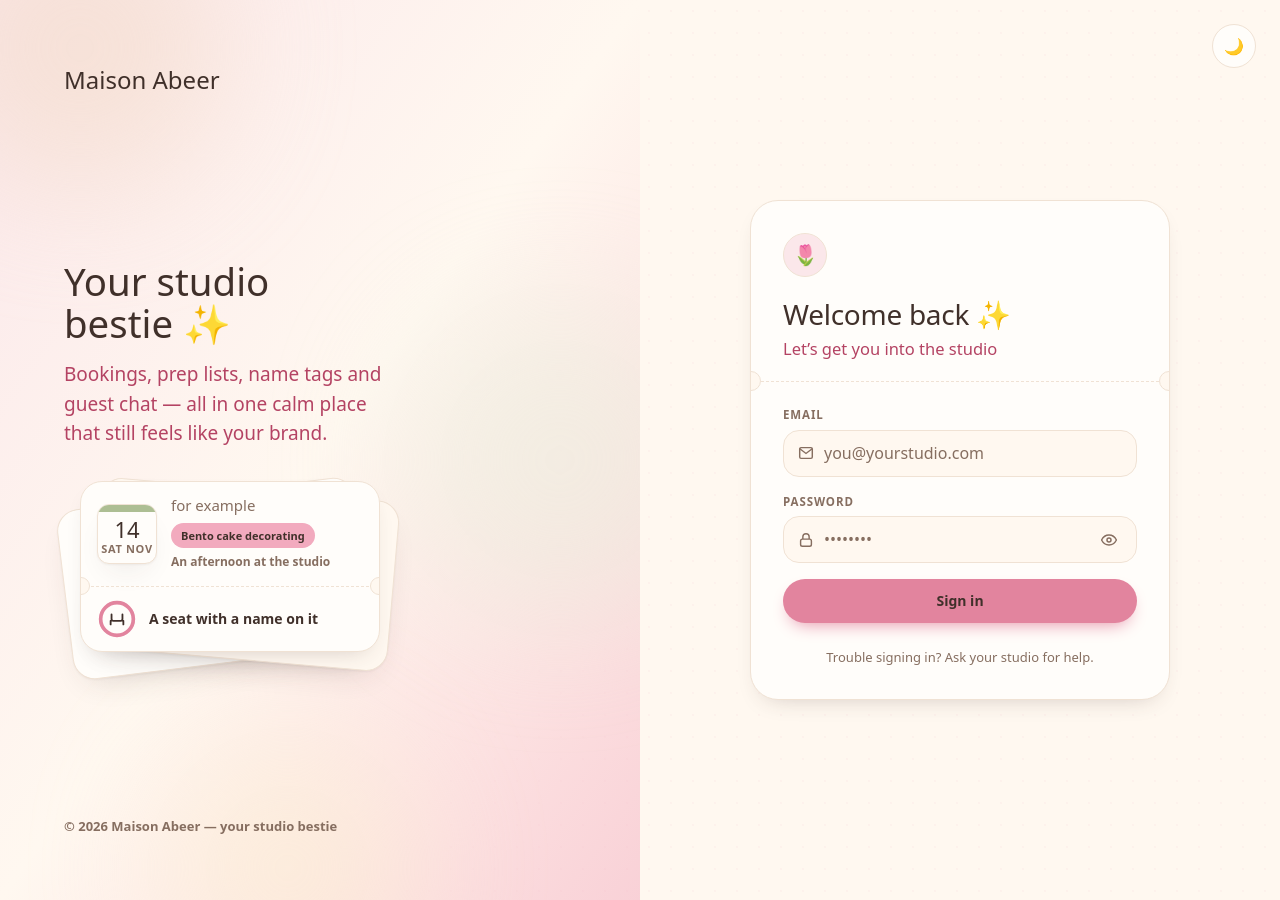
Test: LoginPage › shows one message when the client itself throws
The width and height of the screenshot is (1280, 900).
In the field labelled "Email": (960, 453) [783,430,1137,477], type "host@studio.test"
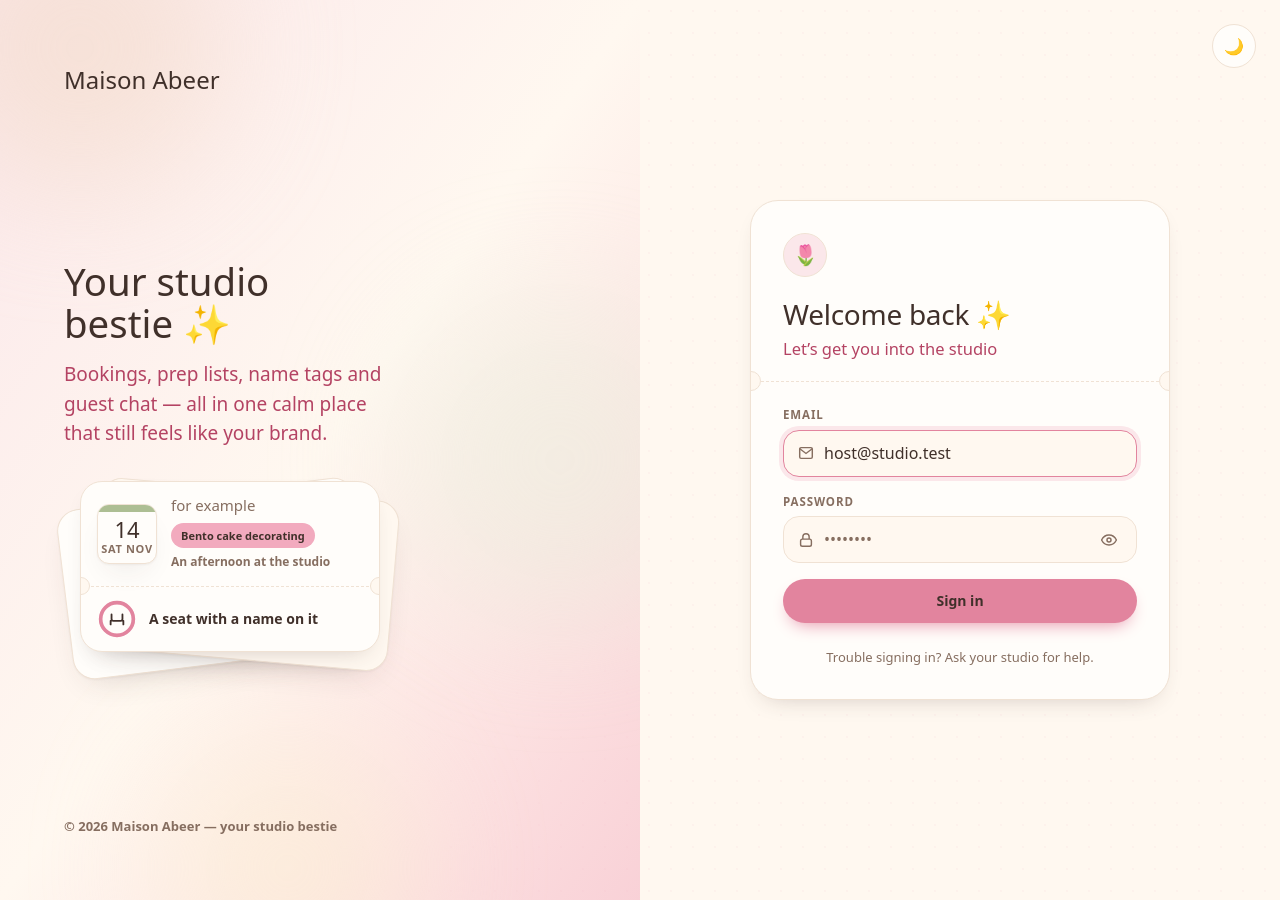
In the password field labelled "Password": (960, 540) [783,516,1137,563], type "secret-password"
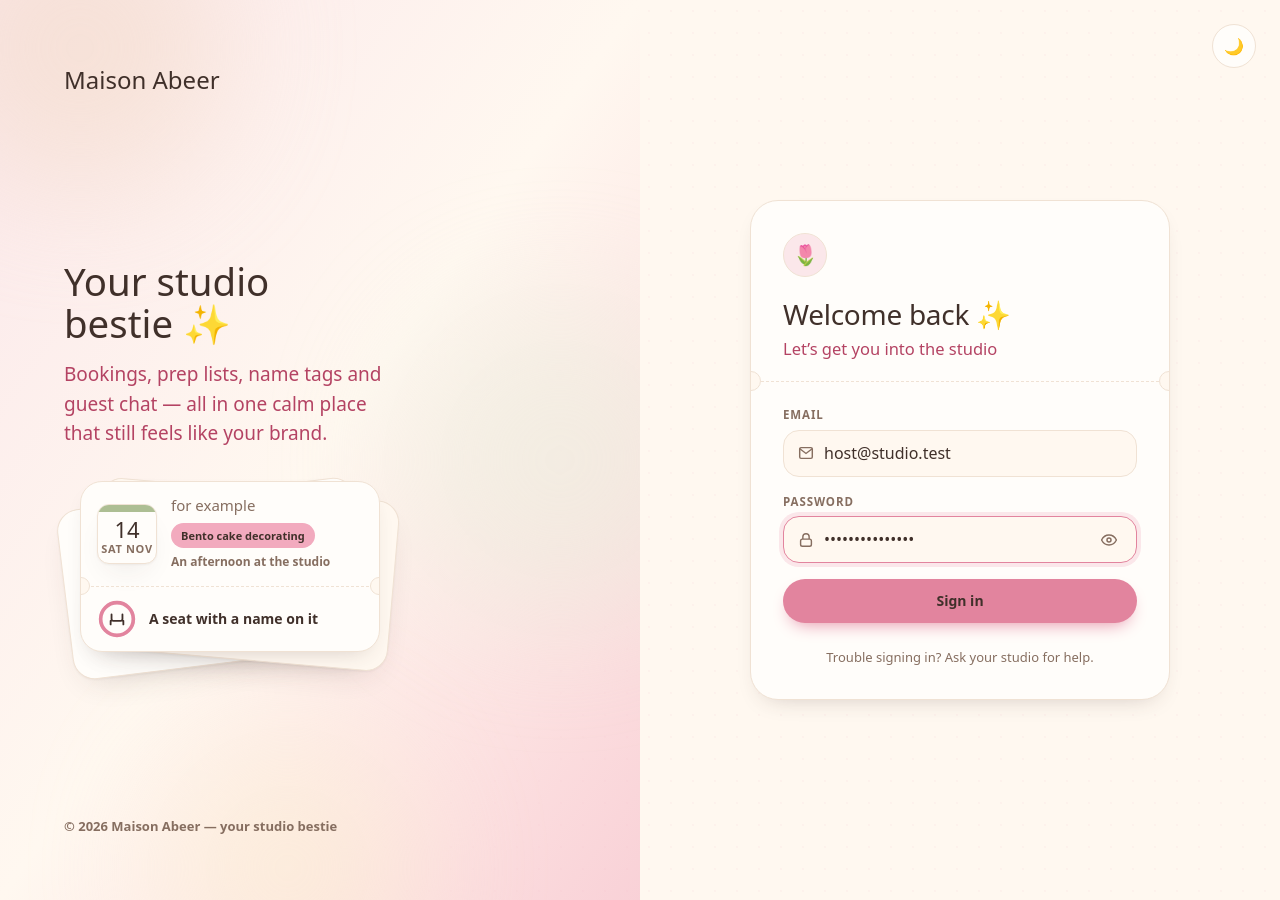
Click the button "Sign in": (960, 601) [783,579,1137,623]
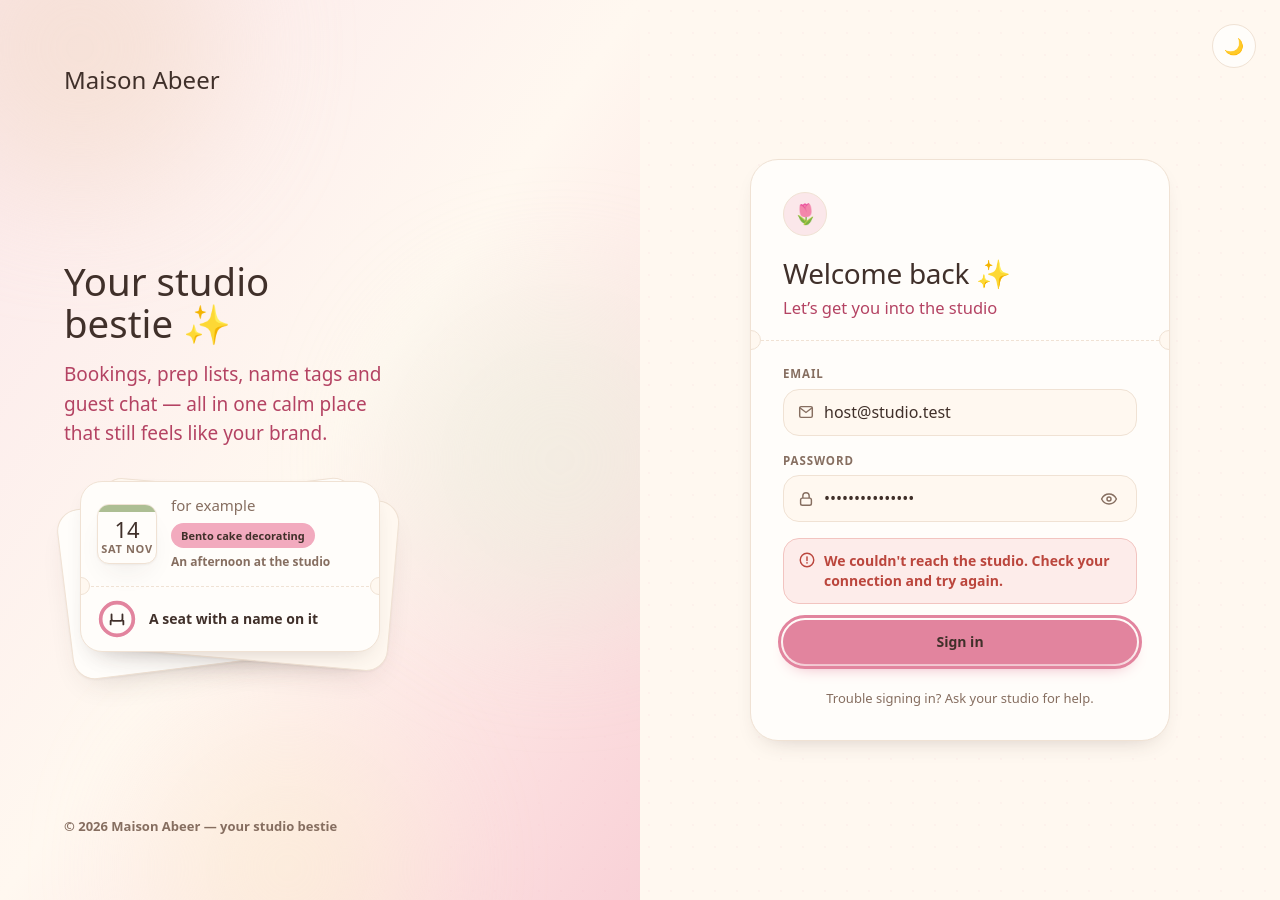
expect the message reads "We couldn't reach the studio. Check your connection and try again.": met, box [824,551,1110,590]
